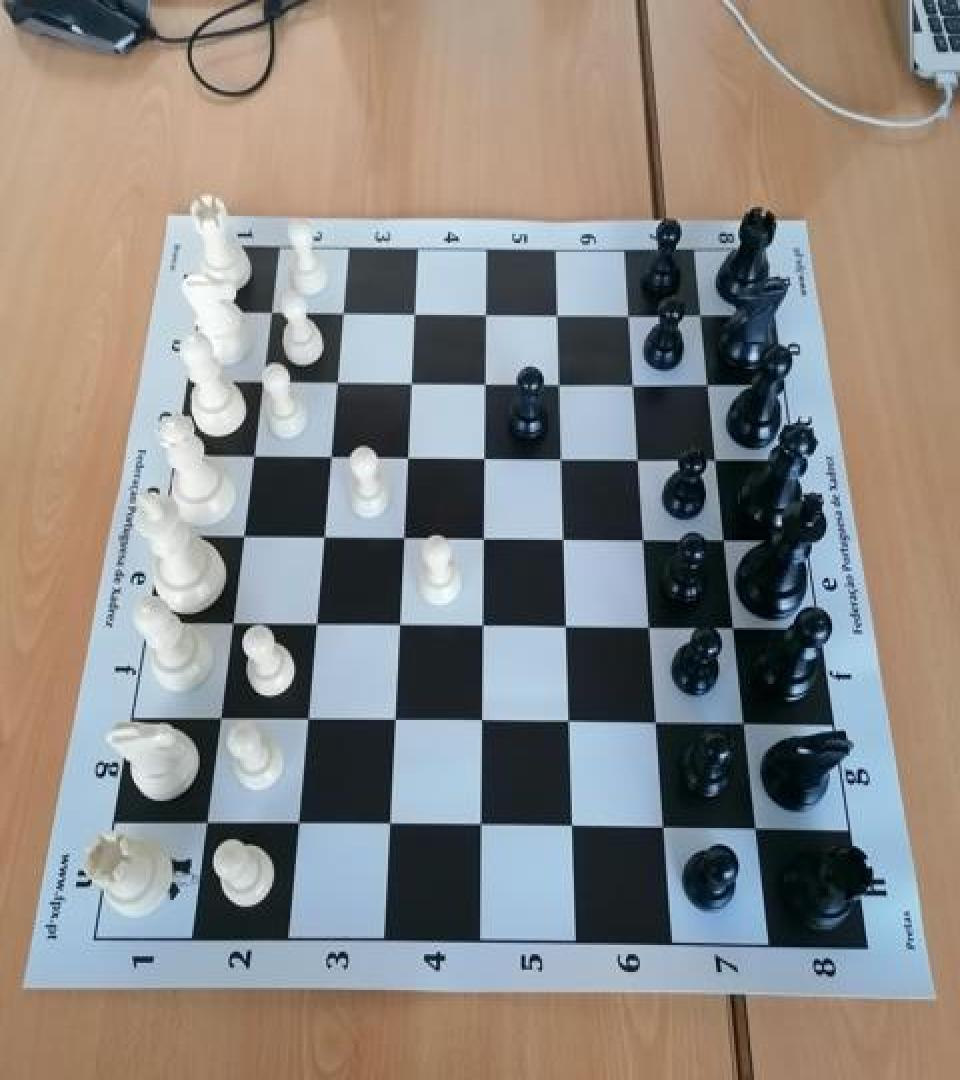xcorner: (551, 608, 583, 645), (468, 608, 500, 645), (554, 705, 586, 742), (191, 806, 223, 843), (683, 298, 715, 334), (612, 297, 644, 333), (541, 297, 573, 333), (470, 296, 502, 332), (399, 296, 431, 332), (328, 295, 360, 331), (257, 295, 289, 331), (691, 367, 723, 403), (617, 366, 649, 402), (543, 366, 575, 402), (469, 364, 501, 400), (396, 364, 428, 400), (322, 364, 354, 400), (248, 364, 280, 400), (700, 441, 732, 477), (623, 441, 655, 477), (546, 440, 578, 476), (469, 440, 501, 476), (392, 439, 424, 475), (315, 438, 347, 474), (238, 438, 270, 474), (709, 522, 741, 558), (629, 522, 661, 558), (548, 521, 580, 557), (468, 520, 500, 556), (388, 520, 420, 556), (308, 518, 340, 554), (228, 518, 260, 554), (719, 611, 751, 647), (635, 610, 667, 646), (384, 608, 416, 644), (300, 606, 332, 642), (217, 605, 249, 641), (730, 706, 762, 742), (642, 706, 674, 742), (467, 704, 499, 740), (379, 703, 411, 739), (292, 703, 324, 739), (204, 702, 236, 738), (742, 812, 774, 848), (650, 812, 682, 848), (558, 811, 590, 847), (466, 810, 498, 846), (374, 809, 406, 845), (283, 808, 315, 844)
